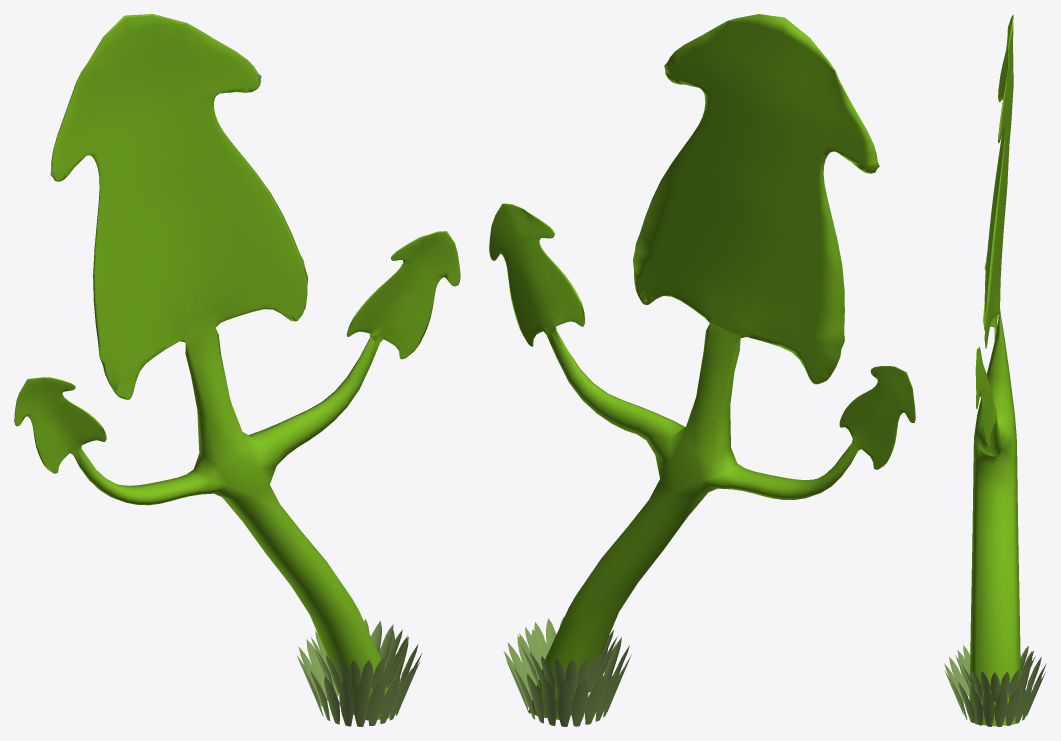
File: SpadeFlower.fbx
The picture shows the model from 3 angles, left to right: view 1: azimuth 30°, elevation 25°; view 2: azimuth 150°, elevation 25°; view 3: azimuth 270°, elevation 25°; orthographic projection. The views are drawn at different scales.
Visible parts, largest first — view 1: Spade_Flower; view 2: Spade_Flower; view 3: Spade_Flower.
Boxes of the visible parts, x1,y1,x2,y2 form: Spade_Flower: (14,14,460,726); Spade_Flower: (489,14,915,726); Spade_Flower: (944,14,1046,726).
Bounding box in the file's own units: 0.4886 × 0.8008 × 0.1224.
